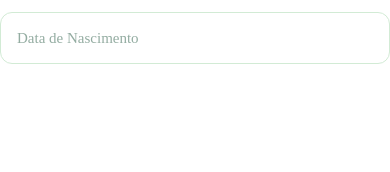
Test: BirthDateField › mascara o texto digitado e só emite data válida
The width and height of the screenshot is (390, 172).
Type "1203" into the field with test id "birth-date-field" at (195, 38), box [17,13,373,63]
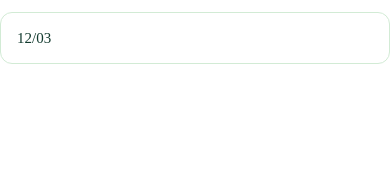
Now the field with test id "birth-date-field" holds "12/03"
Replace the text in the field with test id "birth-date-field" with "12031990" at (187, 38), box [17,13,357,63]
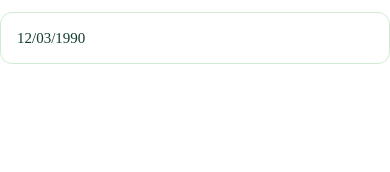
Now the field with test id "birth-date-field" holds "12/03/1990", box [17,13,357,63]
